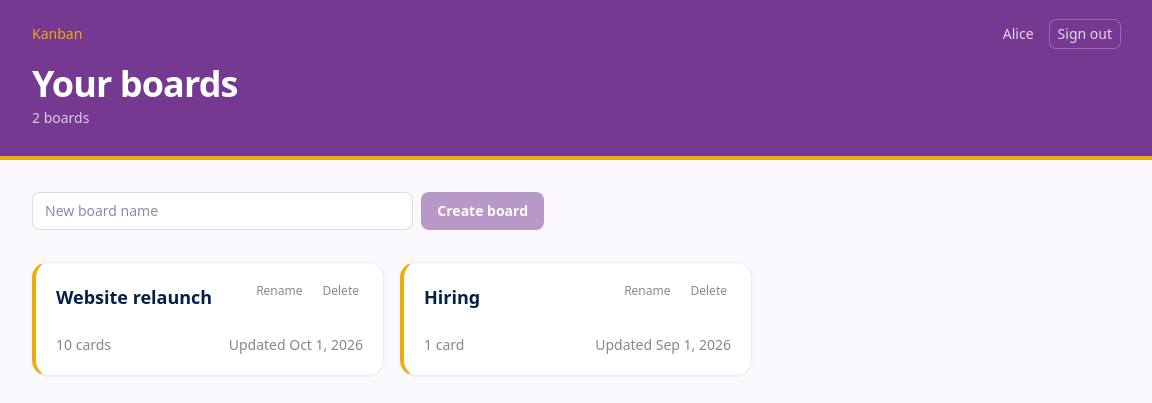
Scenario: BoardList › skips rename when cancelled, empty or unchanged
Click the button with aria-label "Rename Hiring": (647, 291) left=616, top=279, right=678, bottom=303
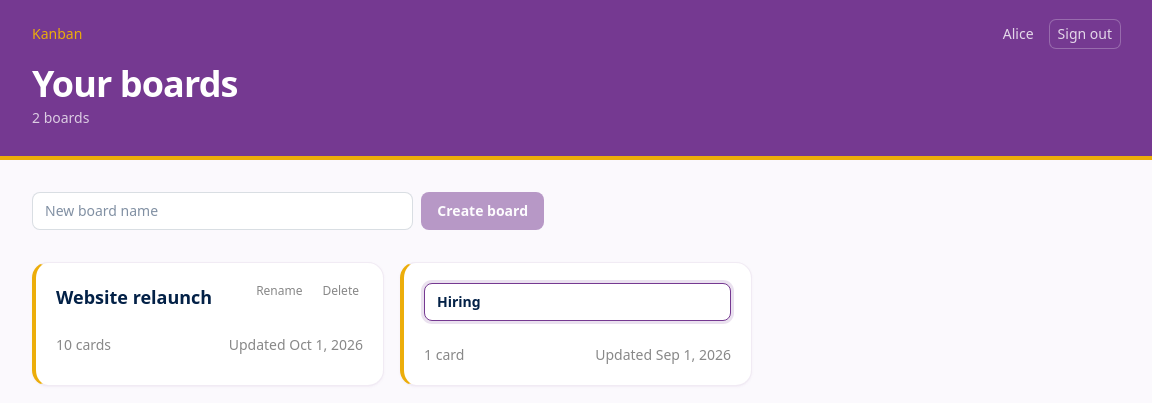
In the field named "Board name": (578, 302) left=424, top=283, right=731, bottom=321, type "x"
Then press Escape
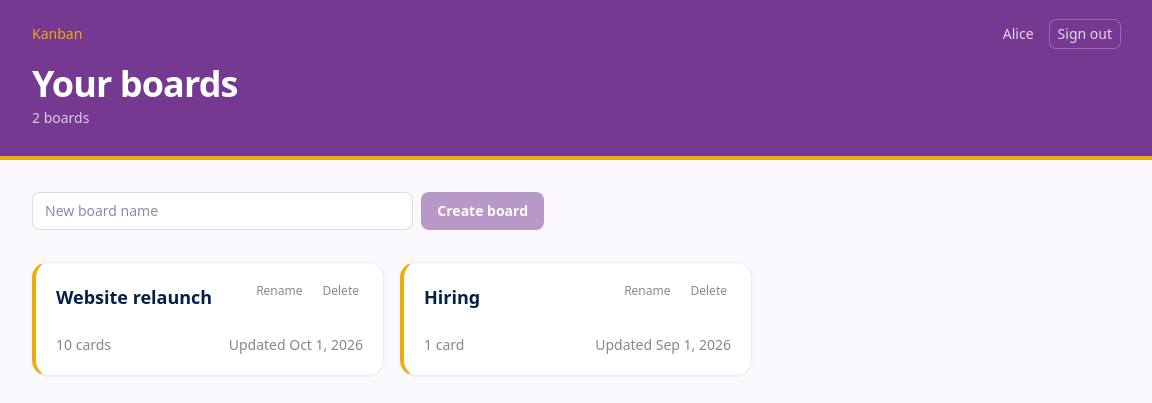
Click the button with aria-label "Rename Hiring": (647, 291) left=616, top=279, right=678, bottom=303
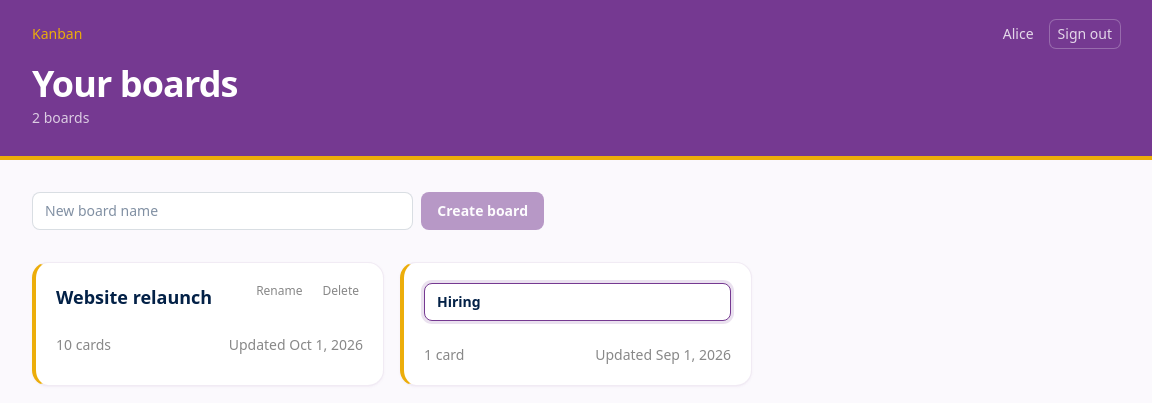
Clear the field named "Board name": (578, 302) left=424, top=283, right=731, bottom=321
Press Enter
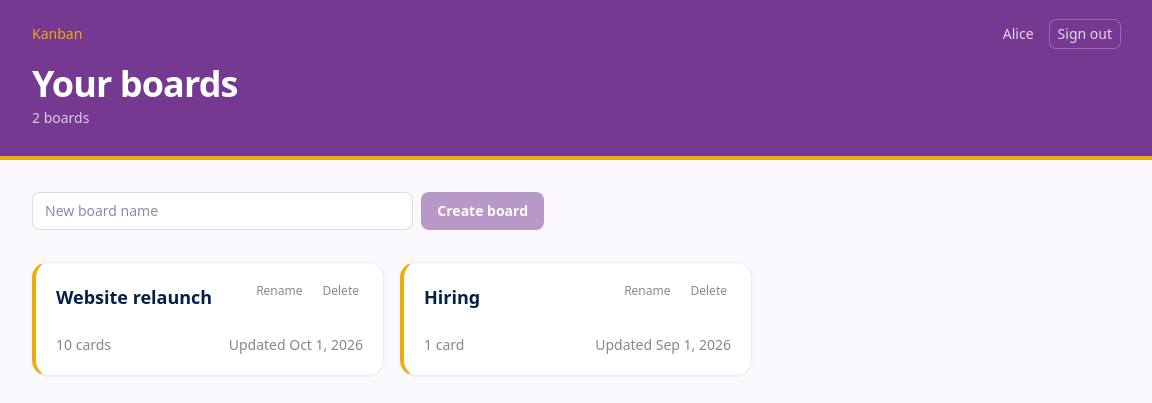
Click the button with aria-label "Rename Hiring": (647, 291) left=616, top=279, right=678, bottom=303
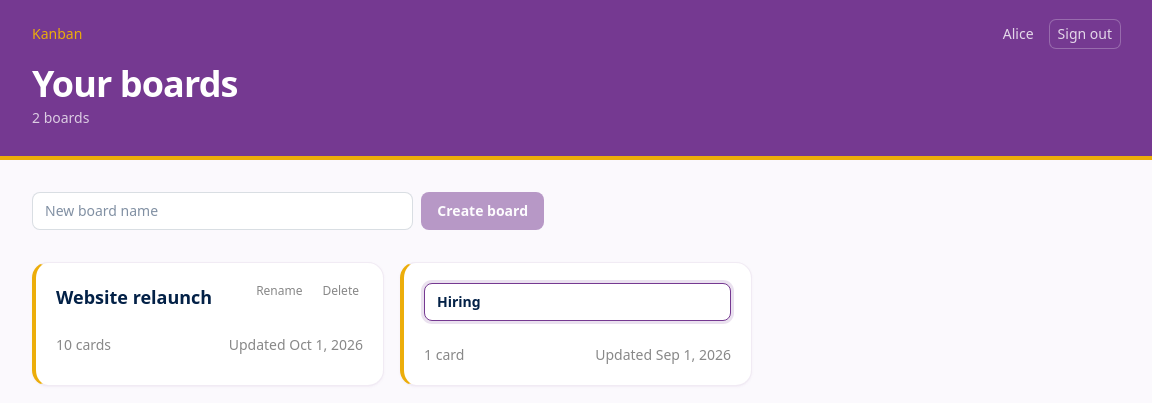
Press Enter
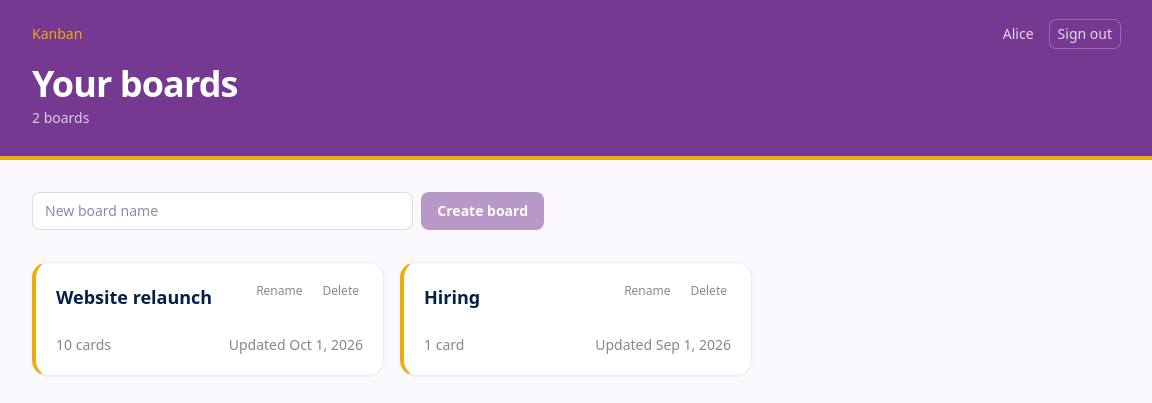
Result: the link "Hiring" is shown at left=424, top=285, right=480, bottom=309
